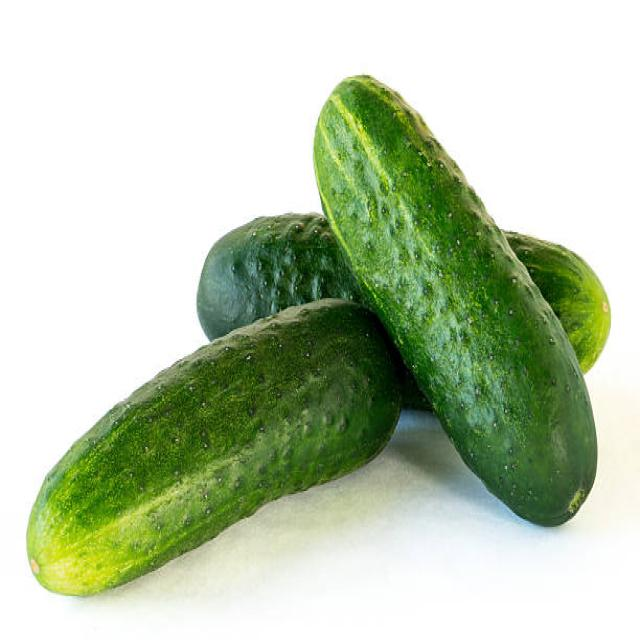cucumber: (312, 72, 599, 530), (27, 298, 406, 596)
